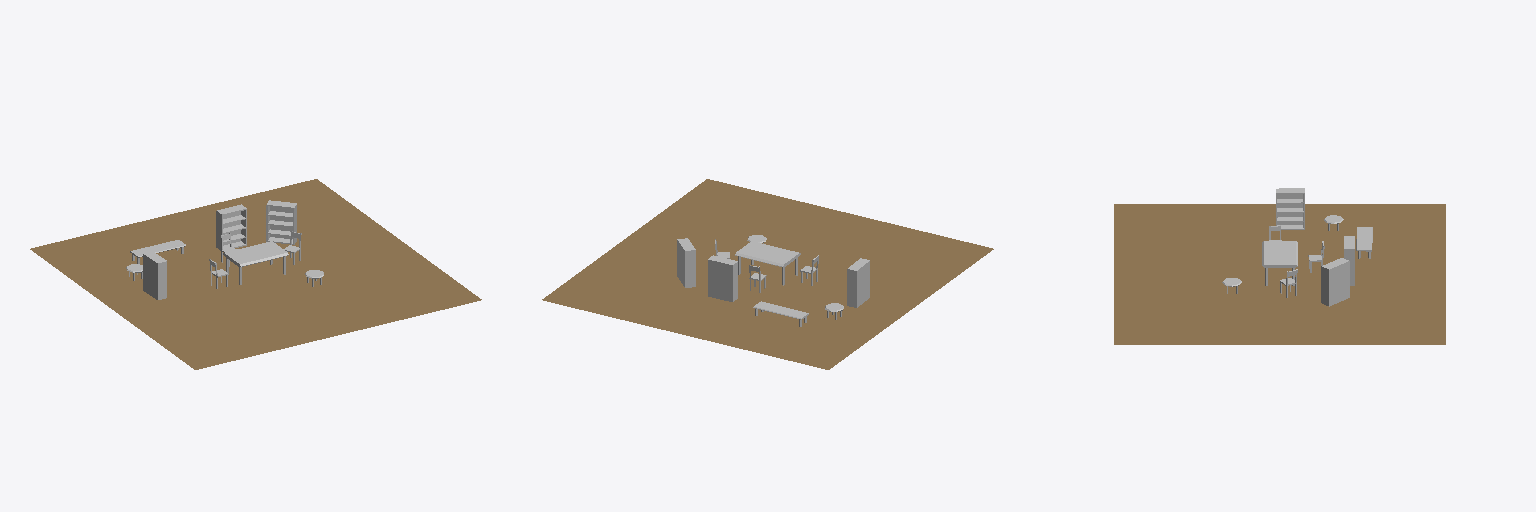
Rendered from bench2.obj.
3 renders of one model, left to right at view 1: azimuth 30°, elevation 25°; view 2: azimuth 150°, elevation 25°; view 3: azimuth 270°, elevation 25°, orthographic.
Parts seen in each view (by area): view 1: Plane, Cube.002, Cube.006, Cube, Cube.007; view 2: Plane, Cube.006, Cube, Cube.007, Cube.002; view 3: Plane, Cube.002, Cube.007, Cube.
Boxes of the visible parts, x1,y1,x2,y2 form: Plane: [30, 179, 481, 369]; Cube.002: [266, 200, 296, 244]; Cube.006: [216, 204, 246, 250]; Cube: [223, 241, 288, 284]; Cube.007: [143, 251, 166, 299]; Plane: [542, 179, 993, 369]; Cube.006: [708, 255, 737, 301]; Cube: [735, 241, 800, 285]; Cube.007: [847, 258, 869, 307]; Cube.002: [677, 238, 695, 287]; Plane: [1114, 204, 1445, 344]; Cube.002: [1321, 258, 1349, 306]; Cube.007: [1276, 188, 1304, 229]; Cube: [1262, 241, 1297, 285].
Size of the model in its own units: 17.84 by 2.2 by 17.84.